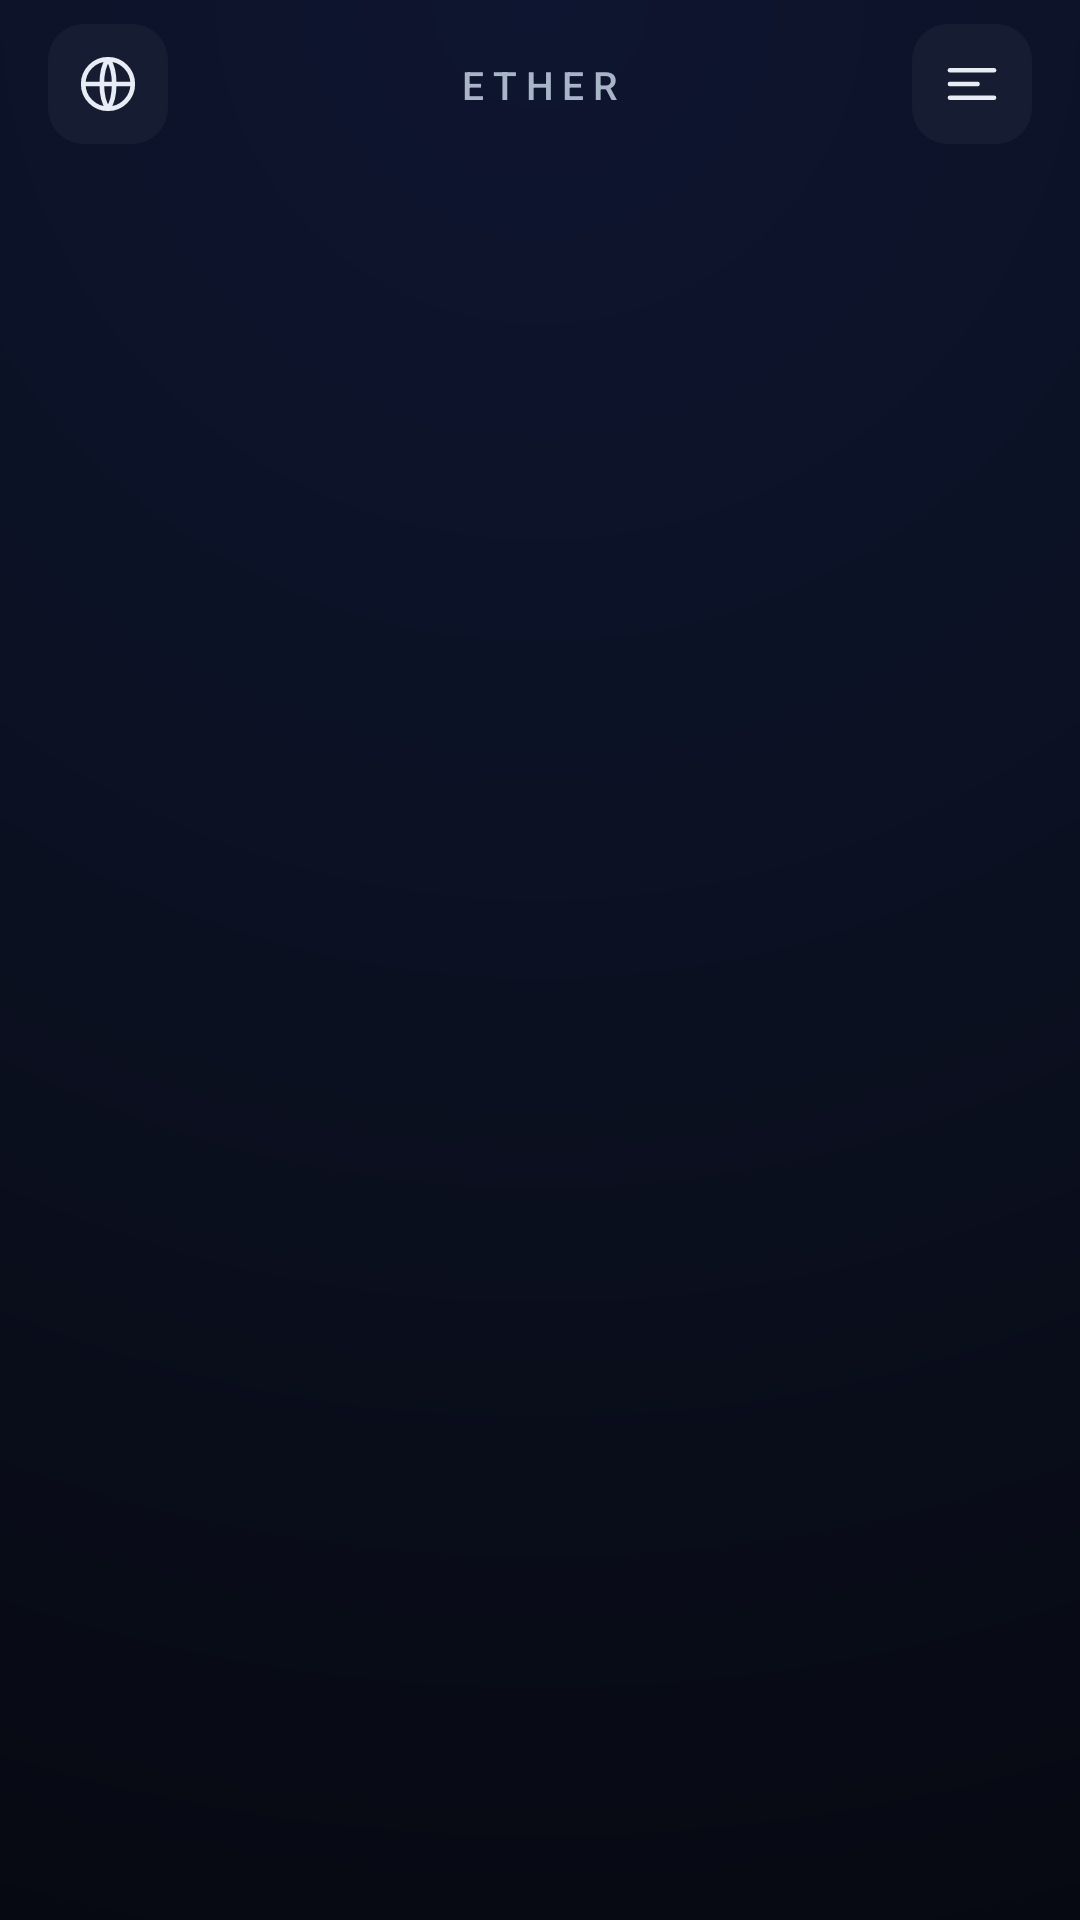

Icon click points for this 1080x1920 phone screenshot, format [x,y]:
Menu: [972,84]
Server locations: [108,84]
